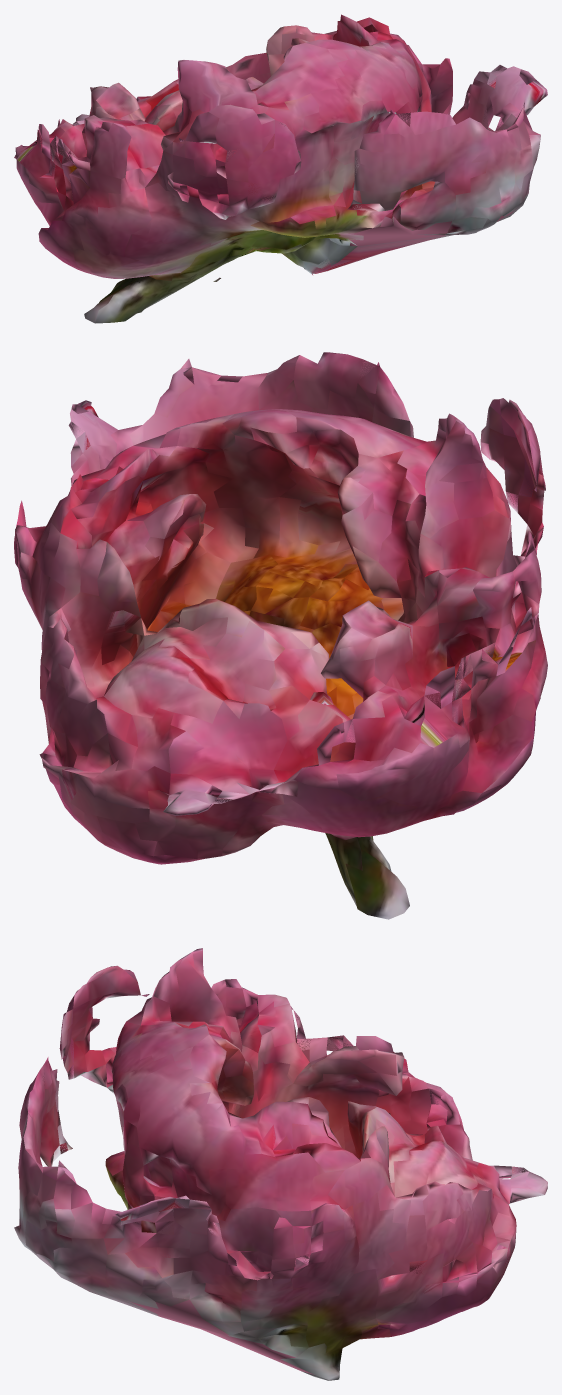
The picture shows the model from 3 angles, top to bottom: view 1: azimuth 30°, elevation 25°; view 2: azimuth 150°, elevation 25°; view 3: azimuth 270°, elevation 25°; orthographic projection. The views are drawn at different scales.
Visible parts, largest first — view 1: 7141040d; view 2: 7141040d; view 3: 7141040d.
Boxes of the visible parts, x1,y1,x2,y2 form: 7141040d: (14,14,547,323); 7141040d: (14,352,547,919); 7141040d: (14,948,547,1380).
Bounding box in the file's own units: 0.1105 × 0.078 × 0.112.
1 material, 1 textured.
